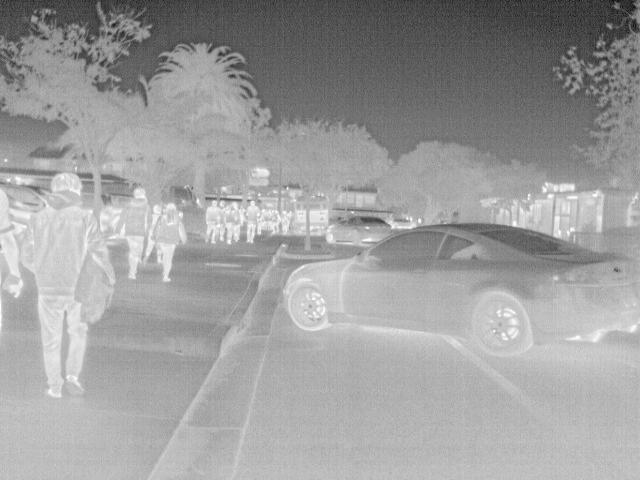car: (283, 223, 639, 355), (324, 214, 392, 244), (1, 181, 50, 211)
person: (22, 172, 116, 396), (119, 185, 155, 280), (2, 185, 26, 327), (152, 201, 186, 282), (203, 196, 224, 242), (223, 202, 242, 246), (244, 198, 259, 242)
